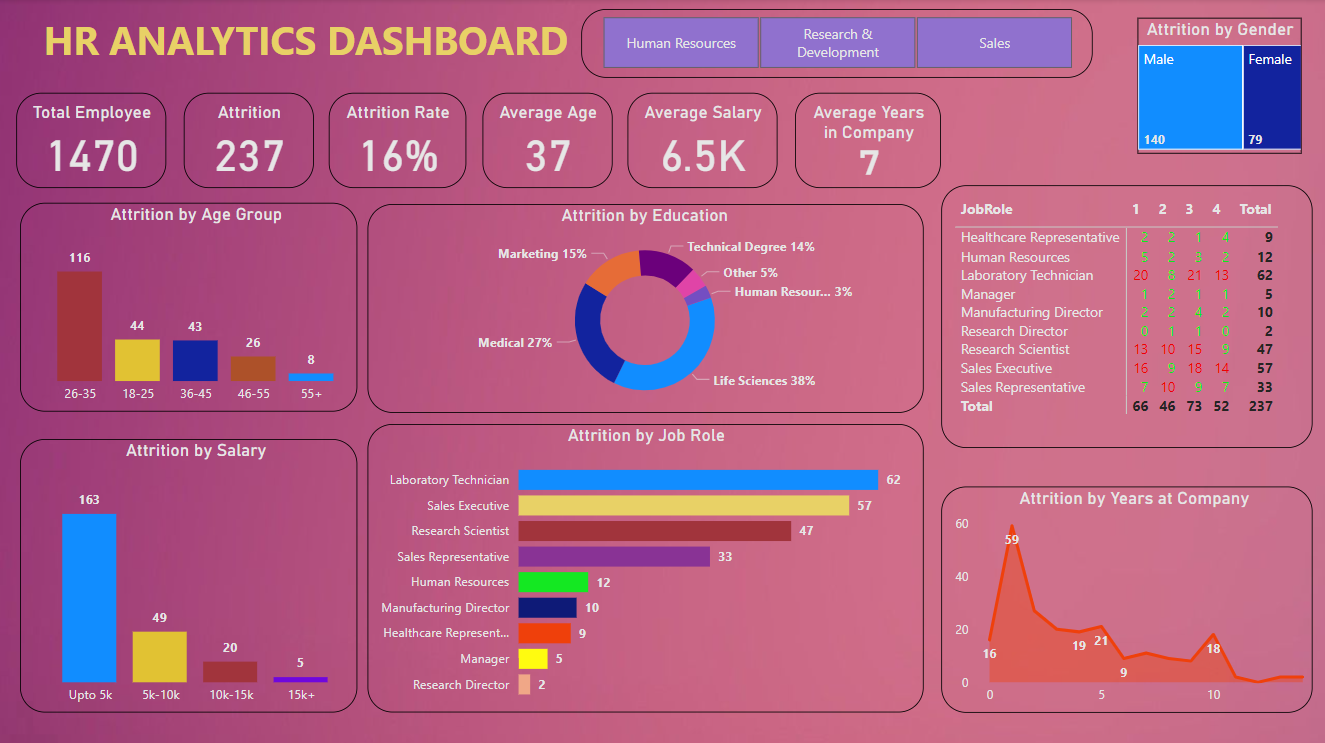

What the dashboard file says about the page in this screenshot:
{"tool":"powerbi","page":{"name":"Dashboard","canvas":[1280,720],"ordinal":0},"visuals":[{"type":"card","title":"Total Employee","fields":{"Values":["Count(HR_Analytics.EmpID)"]},"box":[15.7,90.5,144.8,91.7],"z":0},{"type":"card","title":"Attrition","fields":{"Values":["Sum(HR_Analytics.AttritionCount)"]},"box":[177.3,90.5,125.5,91.7],"z":1000},{"type":"card","title":"Attrition Rate","fields":{"Values":["HR_Analytics.Attrition_rate"]},"box":[317.3,90.5,132.7,91.7],"z":2000},{"type":"card","title":"Average Age","fields":{"Values":["Avg(HR_Analytics.Age)"]},"box":[465.7,90.5,125.5,91.7],"z":3000},{"type":"card","title":"Average Salary","fields":{"Values":["Avg(HR_Analytics.MonthlyIncome)"]},"box":[605.6,90.5,144.8,91.7],"z":4000},{"type":"card","title":"Average Years in Company","fields":{"Values":["Avg(HR_Analytics.YearsAtCompany)"]},"box":[767.3,90.5,141.2,91.7],"z":5000},{"type":"donutChart","title":"Attrition by Education","fields":{"Category":["HR_Analytics.EducationField"],"Y":["Sum(HR_Analytics.AttritionCount)"]},"box":[354.7,197.9,536.9,201.5],"z":6000},{"type":"columnChart","title":"Attrition by Age Group","fields":{"Category":["HR_Analytics.AgeGroup"],"Y":["Sum(HR_Analytics.AttritionCount)"]},"box":[19.3,196.6,325.7,201.5],"z":7000},{"type":"pivotTable","title":"Attrition by Job Role","fields":{"Rows":["HR_Analytics.JobRole"],"Columns":["HR_Analytics.JobSatisfaction"],"Values":["Sum(HR_Analytics.AttritionCount)"]},"box":[908.4,179.8,358.3,253.4],"z":8000},{"type":"columnChart","title":"Attrition by Salary","fields":{"Category":["HR_Analytics.SalarySlab"],"Y":["Sum(HR_Analytics.AttritionCount)"]},"box":[19.3,424.7,325.7,264.2],"z":9000},{"type":"barChart","title":"Attrition by Job Role","fields":{"Y":["Sum(HR_Analytics.AttritionCount)"],"Category":["HR_Analytics.JobRole"]},"box":[354.7,410.2,536.9,278.7],"z":10000},{"type":"stackedAreaChart","title":"Attrition by Years at Company","fields":{"Category":["HR_Analytics.YearsAtCompany"],"Y":["Sum(HR_Analytics.AttritionCount)"]},"box":[908.4,470.5,358.3,218.4],"z":11000},{"type":"treemap","title":"Attrition by Gender","fields":{"Group":["HR_Analytics.Gender"],"Values":["Sum(HR_Analytics.AttritionCount)"]},"box":[1097.9,18.1,158,131.5],"z":12000},{"type":"slicer","fields":{"Values":["HR_Analytics.Department"]},"box":[561,9.7,493.4,66.4],"z":13000},{"type":"textbox","box":[15.7,9.7,558.6,65.1],"z":14000}]}

Visuals, with their boxes in screenshot pixels (x1, y1, x2, y2), scaled from the page's 1280x720 canvas onto the 1325x743 screenshot:
"Total Employee" card: bbox(16, 93, 166, 188)
"Attrition" card: bbox(184, 93, 313, 188)
"Attrition Rate" card: bbox(328, 93, 466, 188)
"Average Age" card: bbox(482, 93, 612, 188)
"Average Salary" card: bbox(627, 93, 777, 188)
"Average Years in Company" card: bbox(794, 93, 940, 188)
"Attrition by Education" donutChart: bbox(367, 204, 923, 412)
"Attrition by Age Group" columnChart: bbox(20, 203, 357, 411)
"Attrition by Job Role" pivotTable: bbox(940, 186, 1311, 447)
"Attrition by Salary" columnChart: bbox(20, 438, 357, 711)
"Attrition by Job Role" barChart: bbox(367, 423, 923, 711)
"Attrition by Years at Company" stackedAreaChart: bbox(940, 486, 1311, 711)
"Attrition by Gender" treemap: bbox(1136, 19, 1300, 154)
slicer - HR_Analytics.Department: bbox(581, 10, 1091, 79)
textbox: bbox(16, 10, 594, 77)
